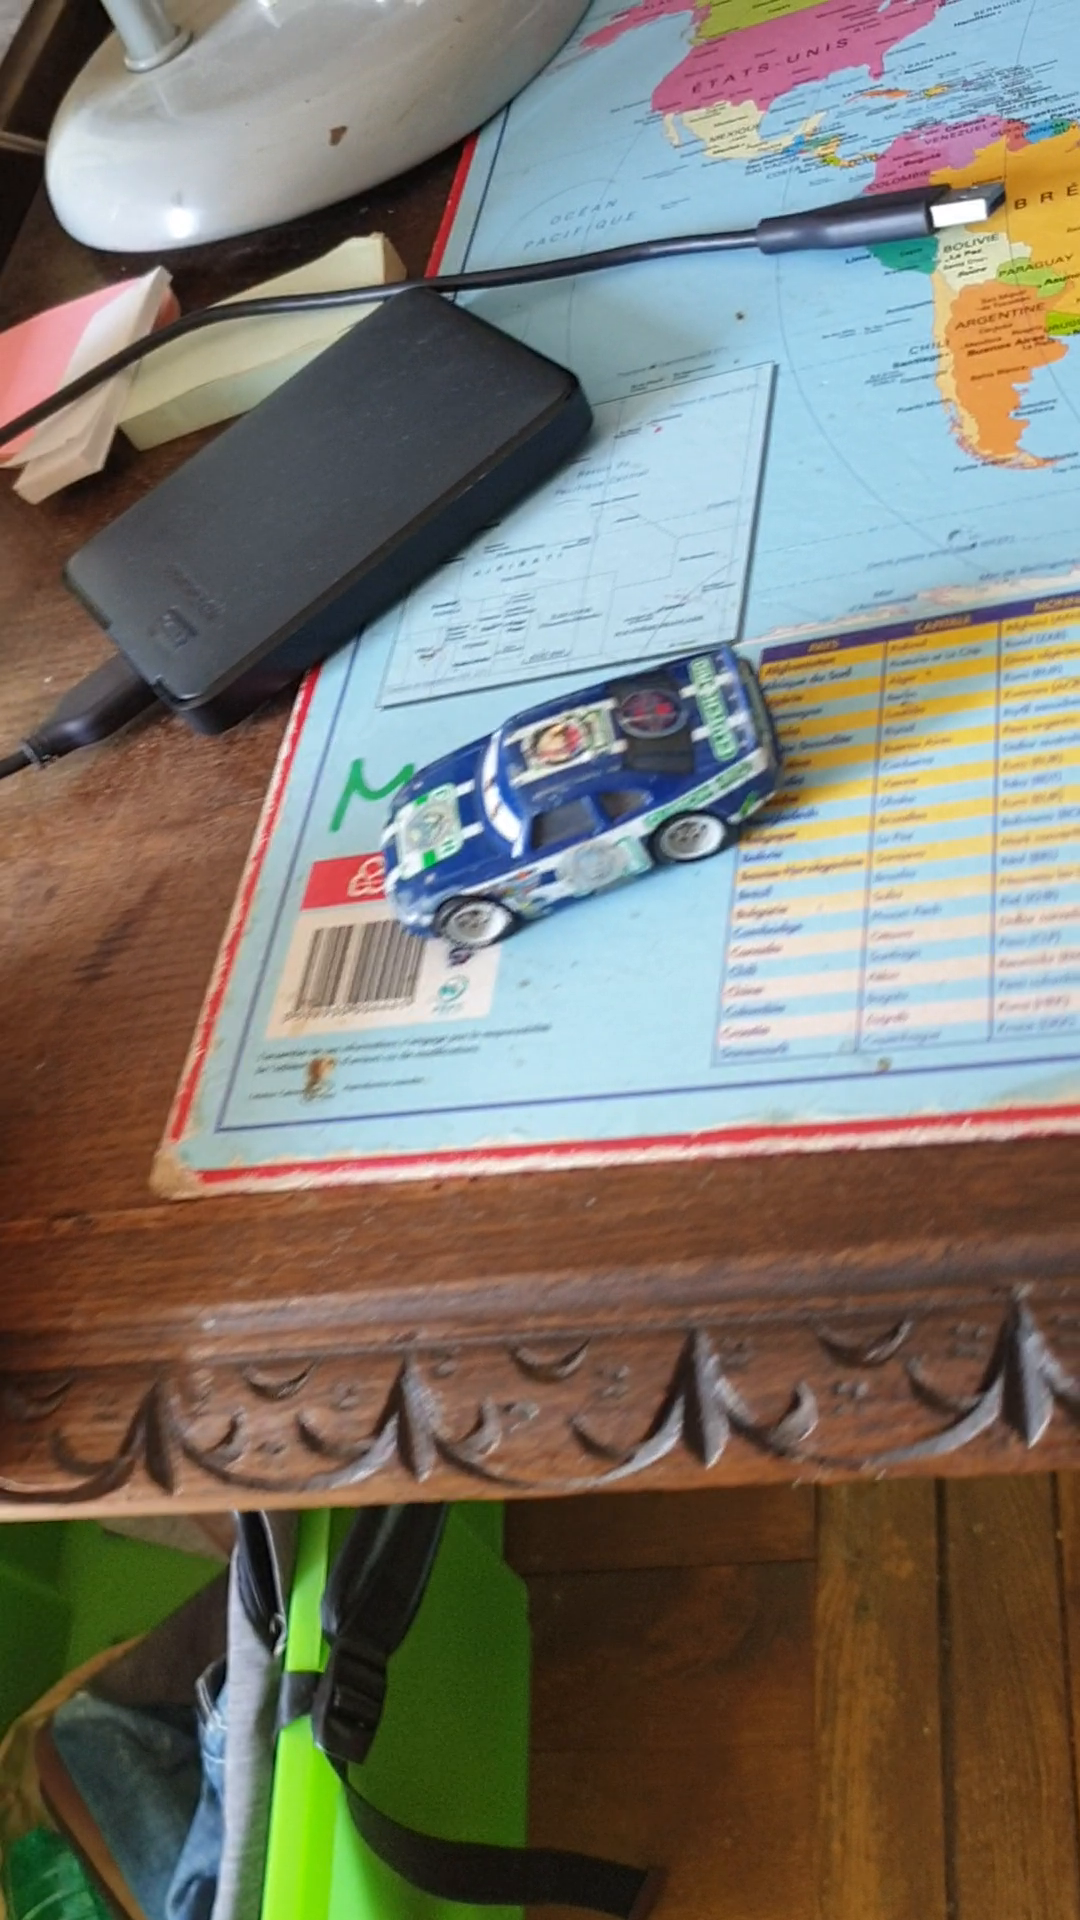cars: (382, 640, 789, 955)
